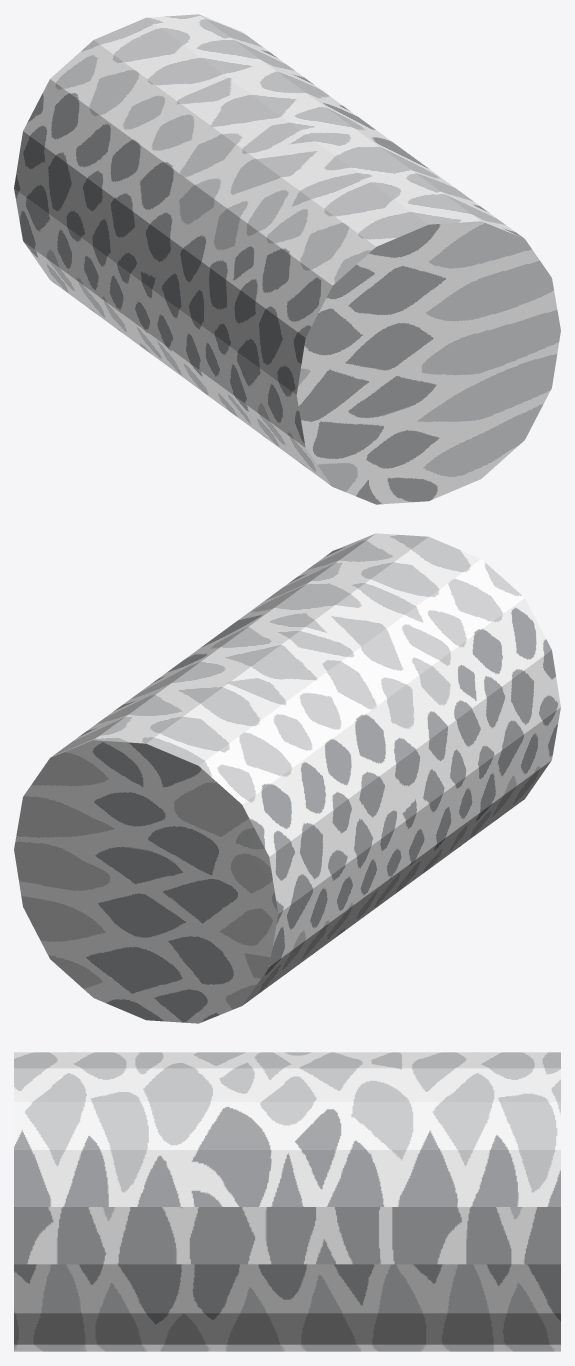
File: snek_body_texture.gltf
3 renders of one model, top to bottom at view 1: azimuth 30°, elevation 25°; view 2: azimuth 150°, elevation 25°; view 3: azimuth 270°, elevation 25°, orthographic. The views are drawn at different scales.
Visible parts, largest first — view 1: Cube.002; view 2: Cube.002; view 3: Cube.002.
Part boxes in pixels (x1,y1,x2,y2): Cube.002: [14, 14, 560, 504]; Cube.002: [14, 533, 560, 1023]; Cube.002: [14, 1052, 560, 1351].
Bounding box in the file's own units: 4.67 × 4.67 × 8.65.
1 material, 1 textured.
